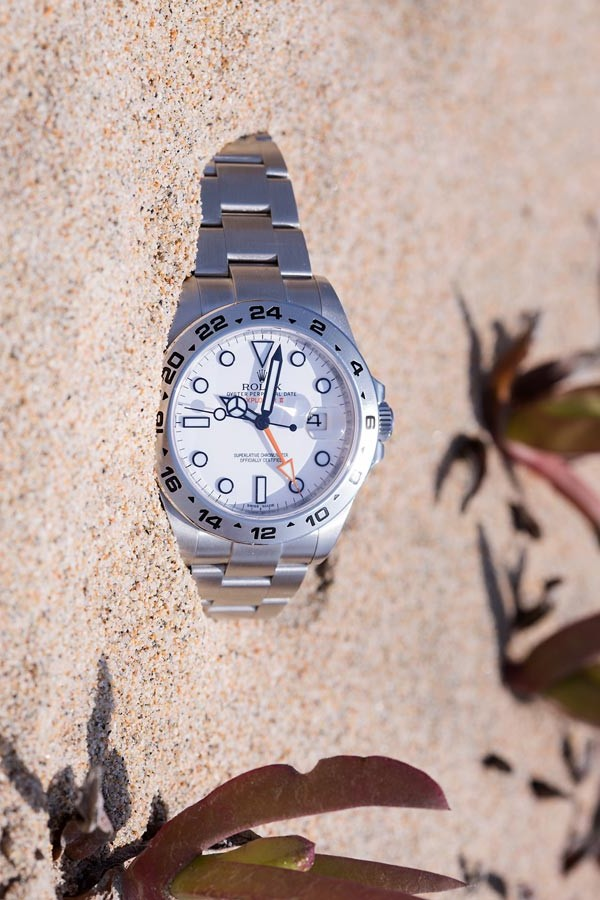clock: (146, 302, 380, 544)
